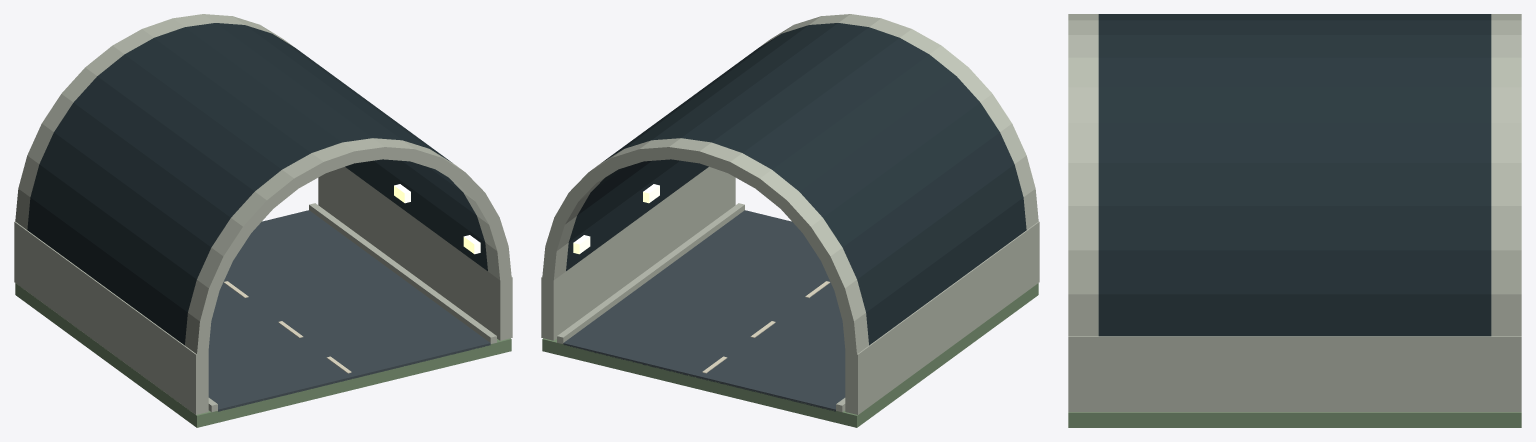
File: road-tunnel.glb
3 views of the same model, side by side, from view 1: azimuth 30°, elevation 25°; view 2: azimuth 150°, elevation 25°; view 3: azimuth 270°, elevation 25° (orthographic). The views are drawn at different scales.
Visible parts, largest first — view 1: TunnelRoof_dark, RoadTunnel_asphalt, TunnelRoof_curb, PortalBack_curb, RoadTunnel_grass, PortalFront_curb, RoadTunnel_curb, RoadTunnel_lamp; view 2: TunnelRoof_dark, RoadTunnel_asphalt, TunnelRoof_curb, PortalFront_curb, RoadTunnel_grass, PortalBack_curb, RoadTunnel_curb, RoadTunnel_lamp; view 3: TunnelRoof_dark, TunnelRoof_curb, PortalBack_curb, PortalFront_curb, RoadTunnel_grass.
Part boxes in pixels (x1,y1,x2,y2): TunnelRoof_dark: (27, 23, 487, 345); RoadTunnel_asphalt: (208, 210, 490, 411); TunnelRoof_curb: (26, 167, 487, 405); PortalBack_curb: (183, 138, 512, 414); RoadTunnel_grass: (15, 283, 511, 427); PortalFront_curb: (14, 14, 330, 290); RoadTunnel_curb: (208, 203, 496, 412); RoadTunnel_lamp: (394, 184, 480, 254); TunnelRoof_dark: (566, 23, 1026, 345); RoadTunnel_asphalt: (563, 210, 845, 411); TunnelRoof_curb: (566, 167, 1027, 405); PortalFront_curb: (541, 138, 870, 414); RoadTunnel_grass: (542, 283, 1038, 427); PortalBack_curb: (723, 14, 1039, 290); RoadTunnel_curb: (557, 203, 845, 412); RoadTunnel_lamp: (573, 184, 659, 254); TunnelRoof_dark: (1098, 14, 1491, 336); TunnelRoof_curb: (1098, 336, 1491, 412); PortalBack_curb: (1068, 14, 1098, 412); PortalFront_curb: (1491, 14, 1521, 412); RoadTunnel_grass: (1068, 412, 1521, 427).
Size of the model in its own units: 6.04 by 4.34 by 6.
